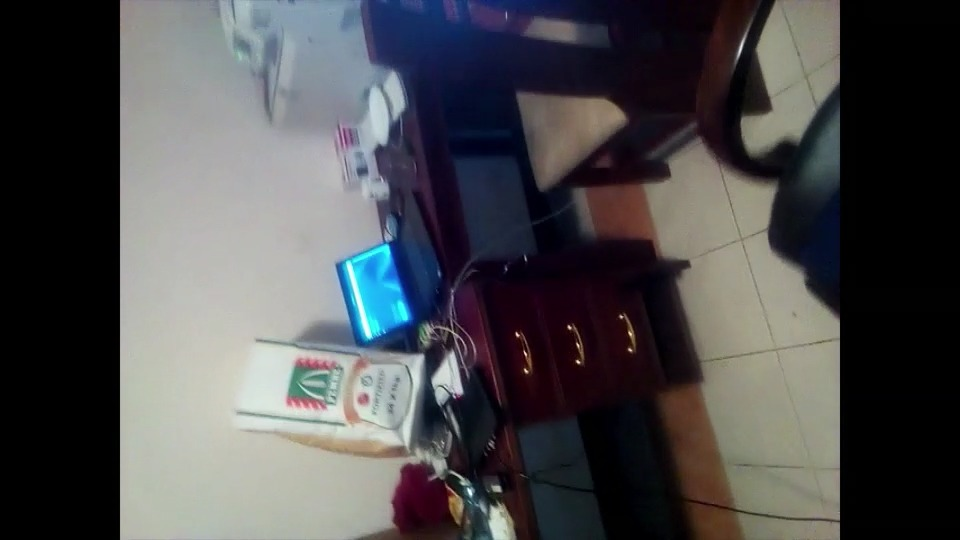maize_flour_green_label: (236, 336, 427, 457)
